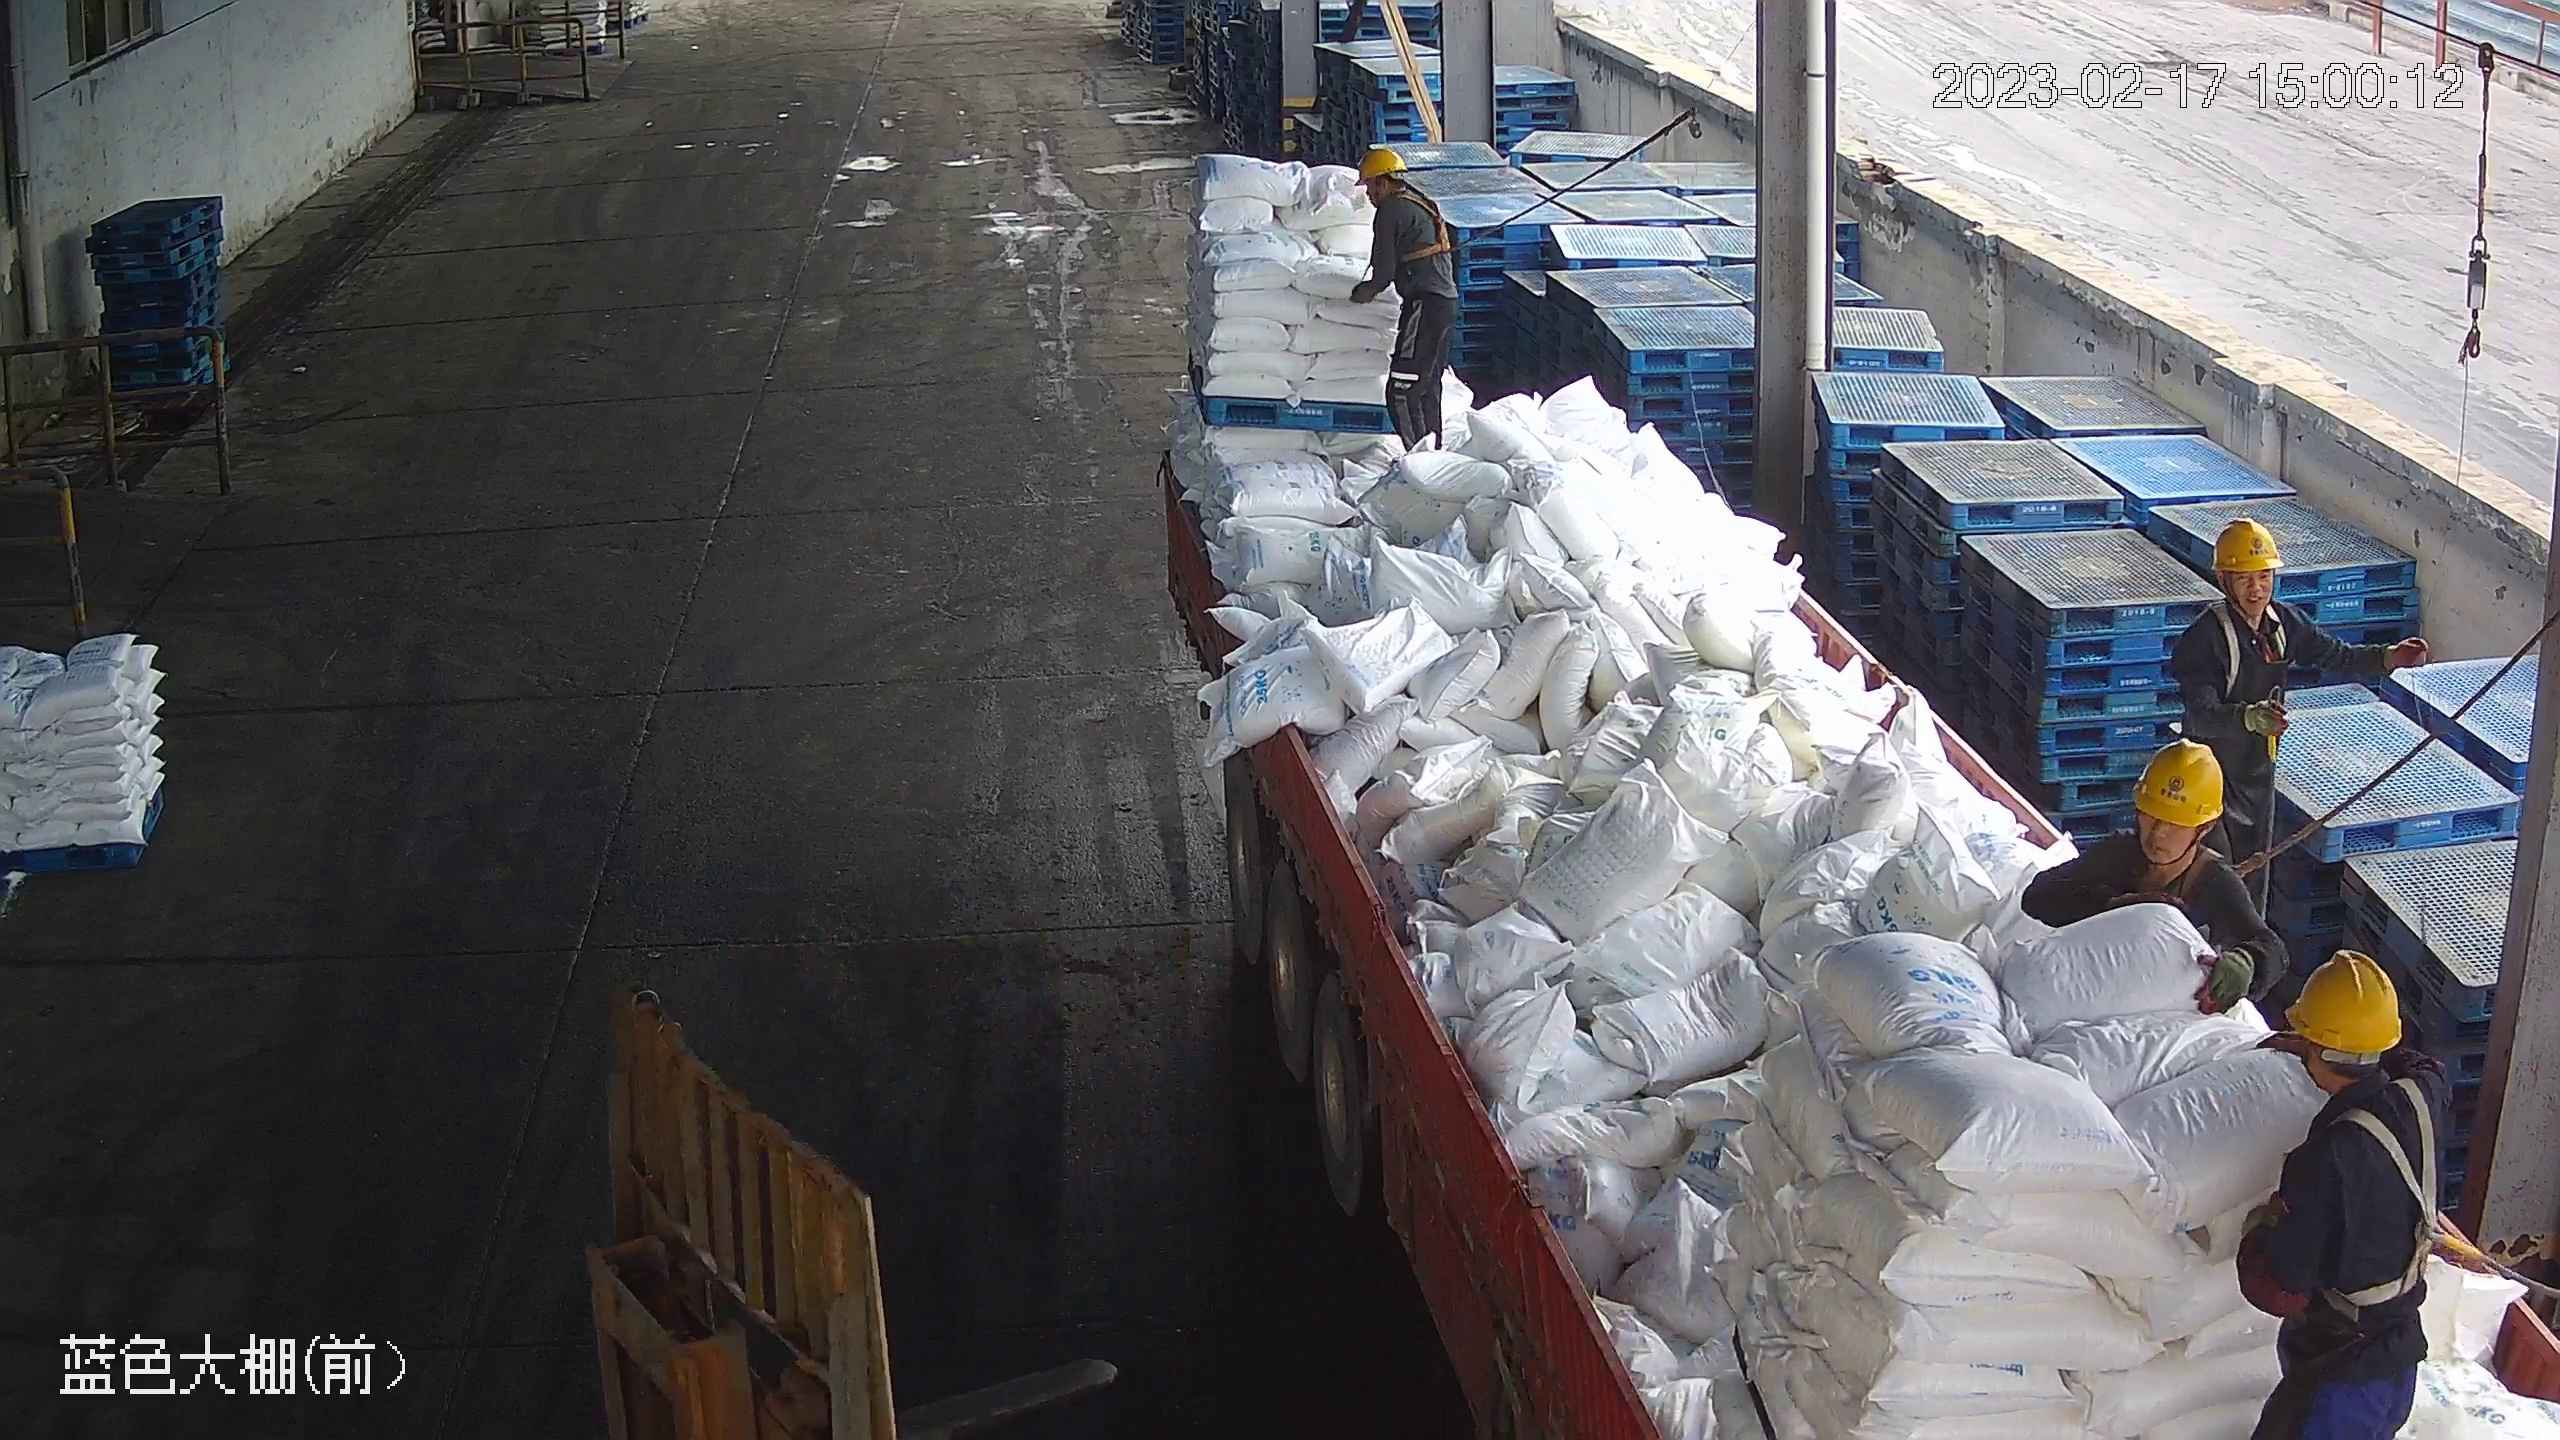belt: (2306, 1084, 2470, 1312), (2197, 597, 2295, 698), (2126, 822, 2232, 901), (1386, 186, 1457, 263)
head: (2254, 948, 2452, 1208), (2089, 739, 2249, 908), (2174, 514, 2316, 689), (1356, 144, 1449, 226)
helmet: (2282, 946, 2405, 1054), (2132, 732, 2227, 827), (2207, 514, 2284, 572), (1357, 144, 1407, 185)
people: (2170, 512, 2405, 1011), (2226, 947, 2455, 1440), (1351, 143, 1465, 451)
truck: (1143, 438, 2545, 1436)
